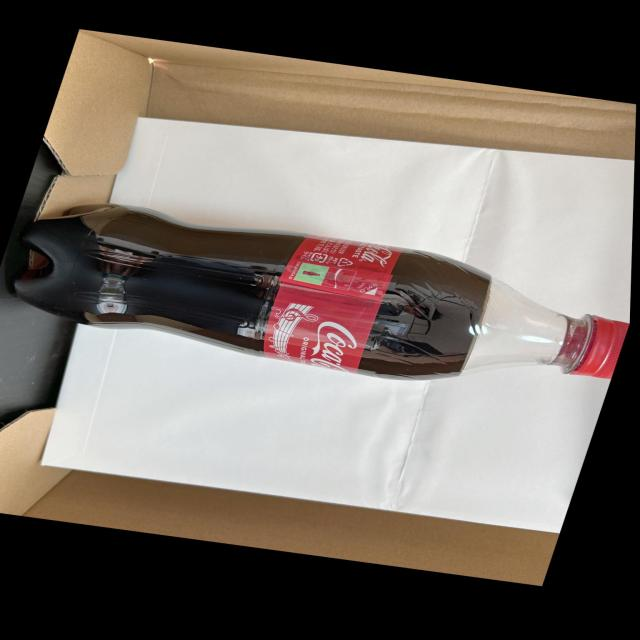high: (16, 203, 613, 380)
